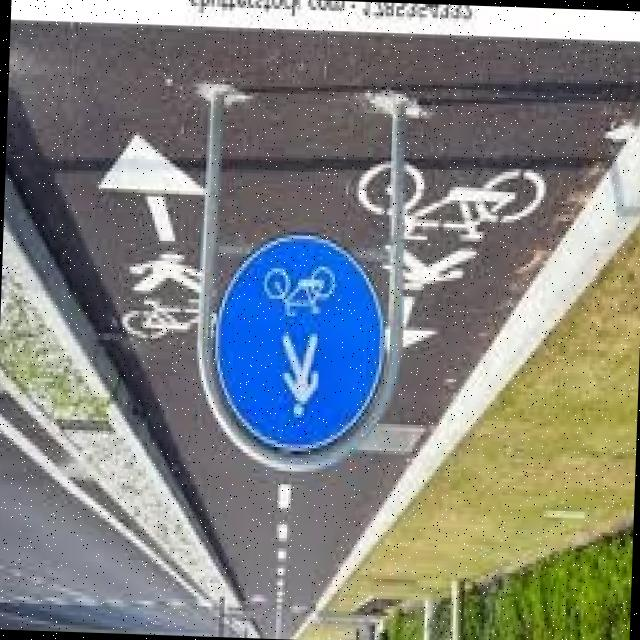bicycle: (203, 231, 400, 460)
